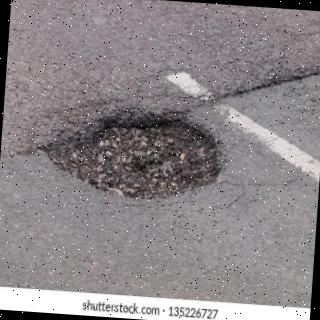pothole: (46, 111, 219, 199)
